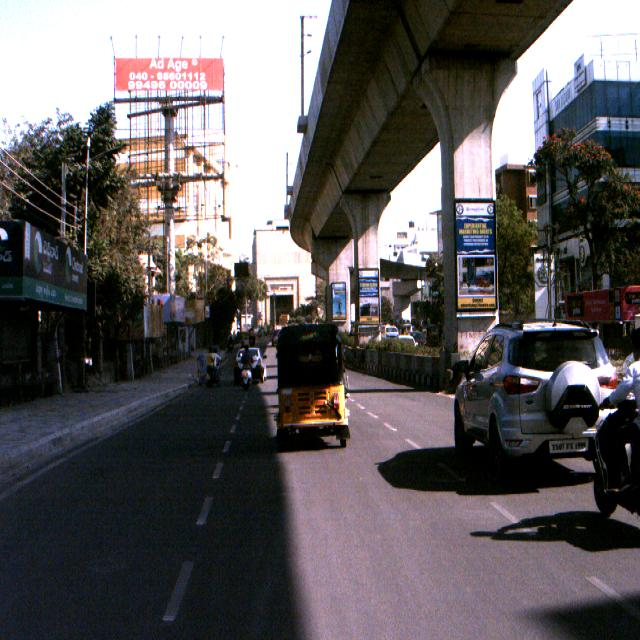auto ahead at: (270, 319, 351, 457)
car ahead at: (438, 309, 626, 470)
